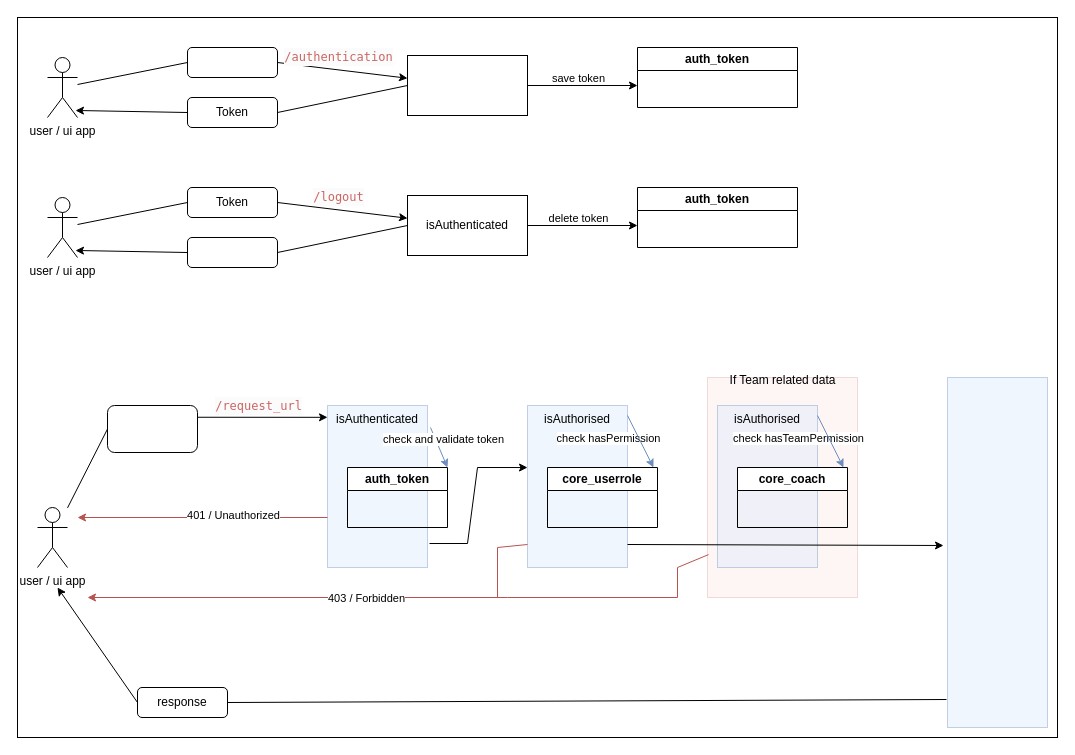
Image size: 1075x755. Some labels were removed from this diagram. Each missing label, with the centre of its shape:
"authenticate" belongs at point 467,85.
"Credentials" belongs at point 232,62.
"handle request" belongs at point 997,552.
"logged out" belongs at point 232,252.
"request + auth heder" belongs at point 152,428.
